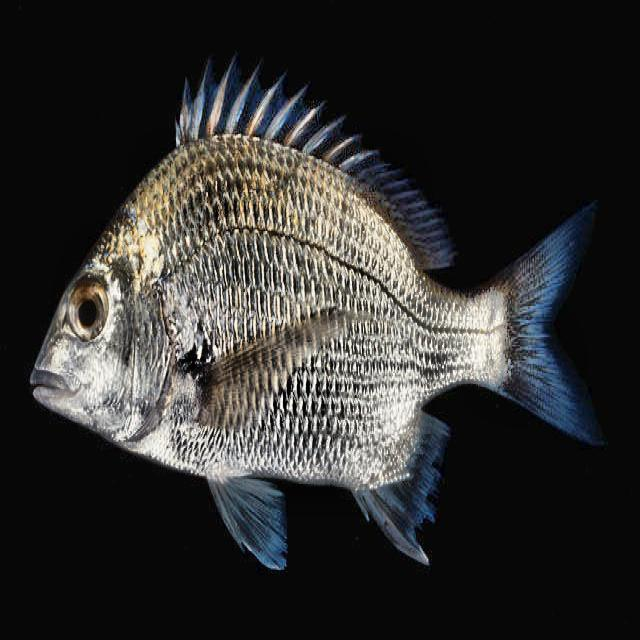fish: (25, 55, 605, 578)
